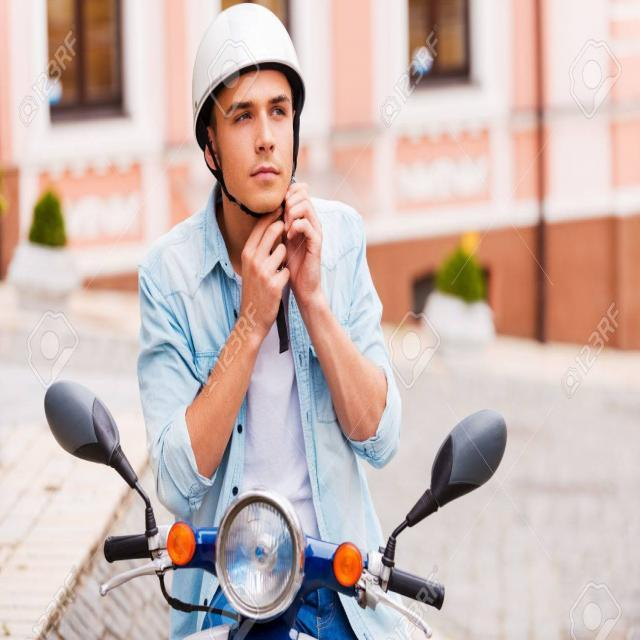Helmet: (184, 0, 310, 220)
